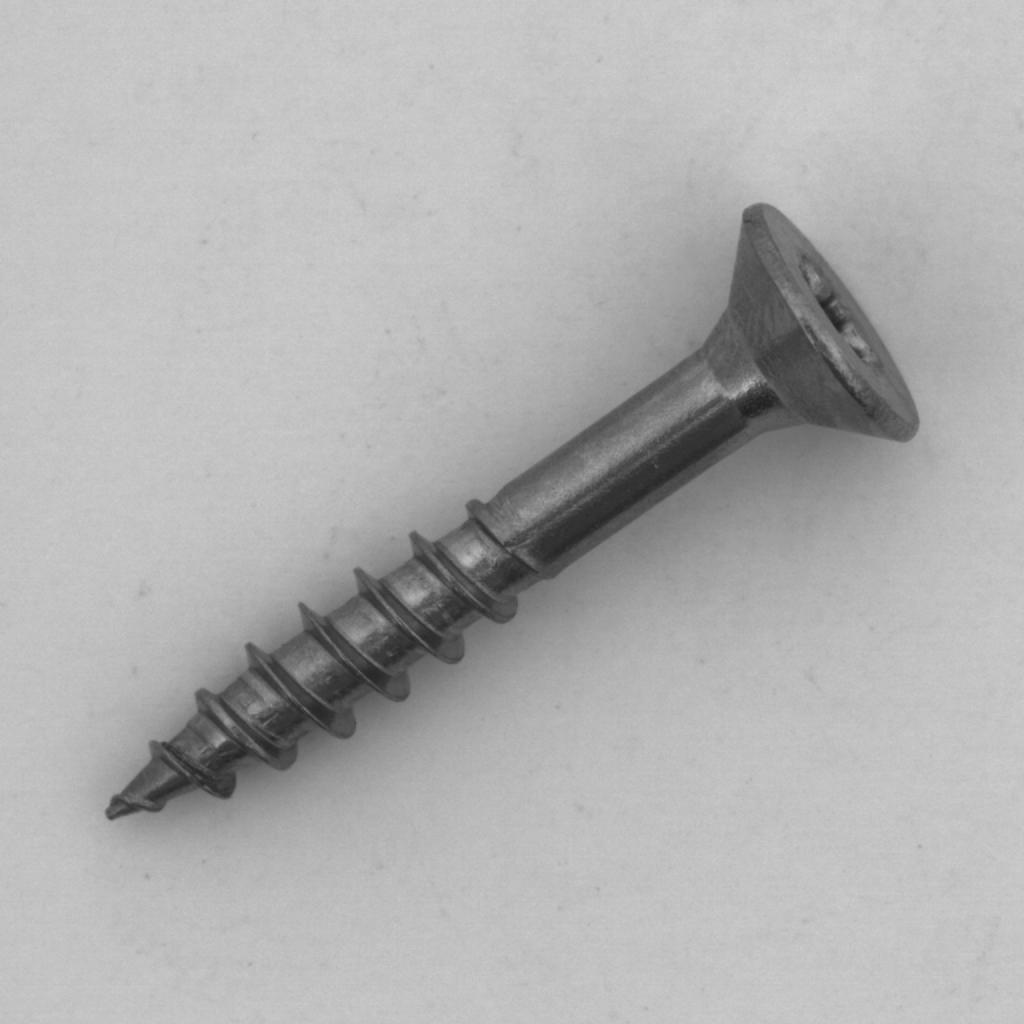good: (79, 179, 947, 841)
